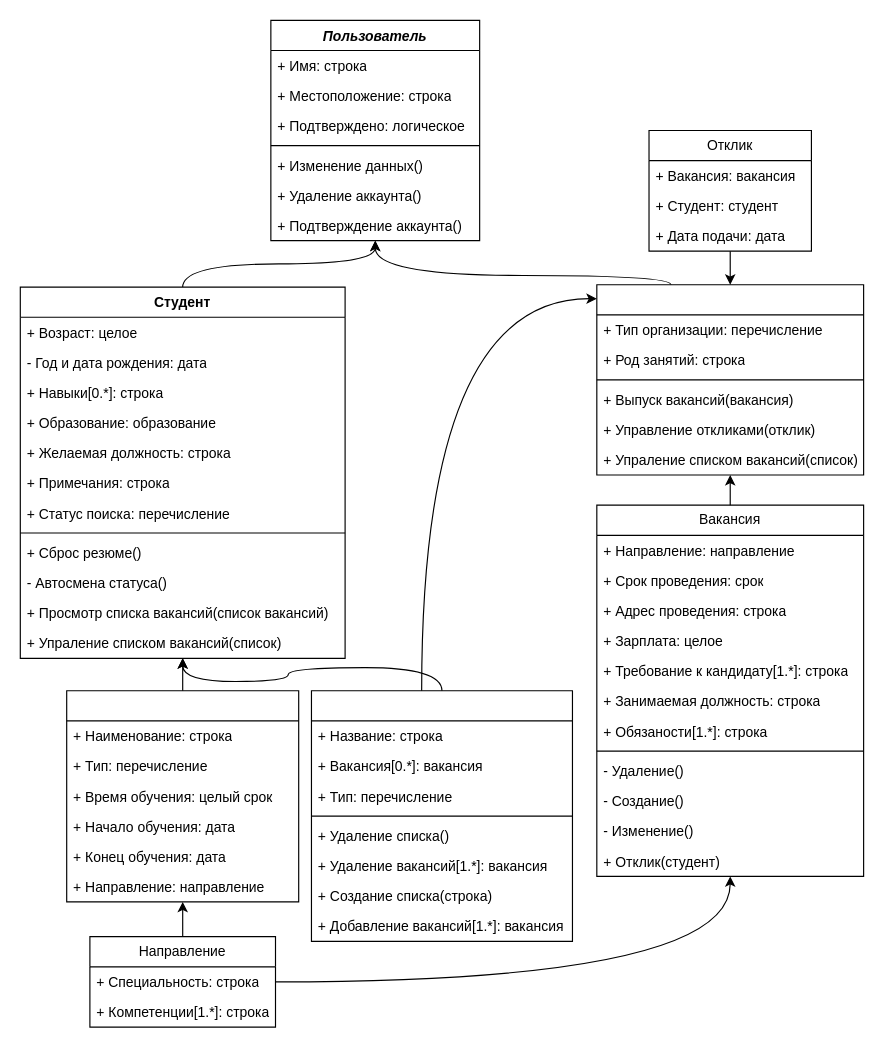
Image size: 884x1051. Some labels were removed from this diagram. The box of each missing label's shape, as (x1, y1, x2, y2) in pixels:
Образование: (66, 690, 299, 902)
Работодатель: (596, 284, 864, 475)
Список вакансий: (310, 690, 572, 941)
